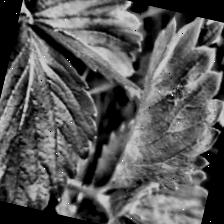Powdery Mildew Leaf: (95, 3, 224, 216), (0, 21, 118, 219)
